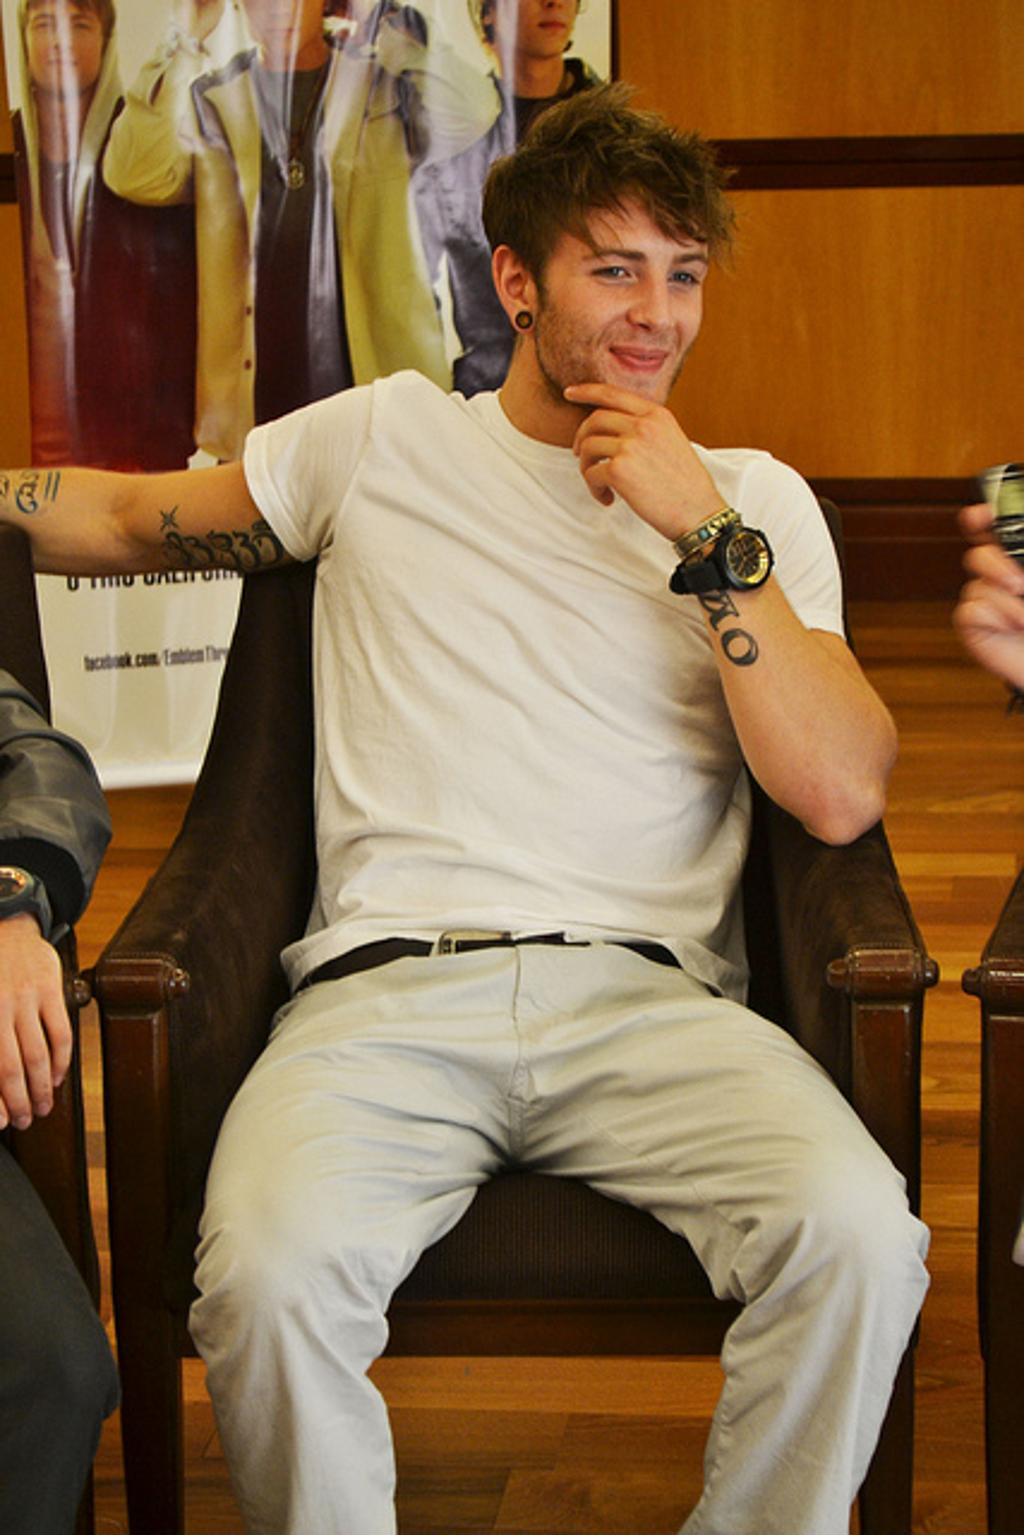face: (535, 199, 709, 410), (25, 0, 102, 95), (495, 0, 577, 56), (243, 0, 321, 58)
